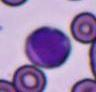L: (25, 26, 71, 68)
